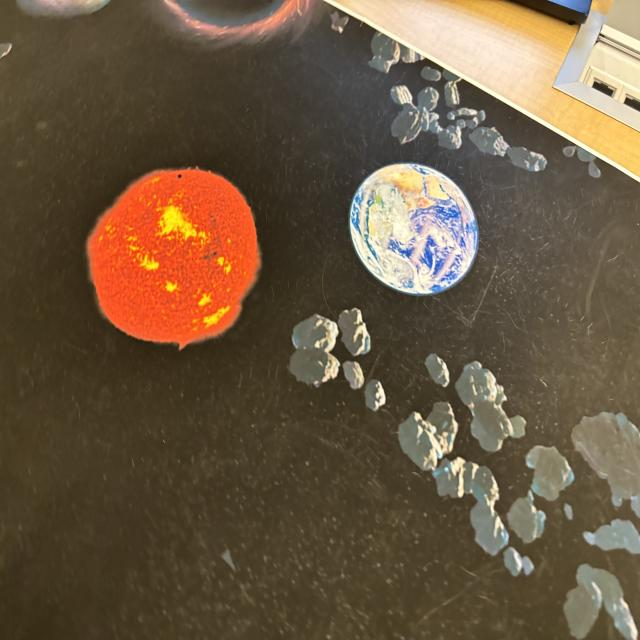Asteroids: (295, 309, 640, 640), (376, 32, 606, 175)
Black Hole: (157, 0, 324, 47)
Earth: (350, 157, 477, 304)
Sun: (85, 162, 264, 340)
